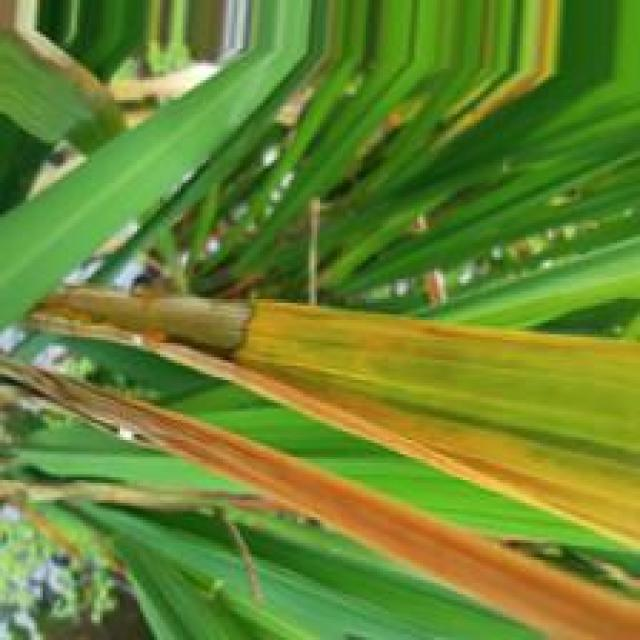Rice False Smut: (3, 363, 640, 640), (17, 287, 640, 548)
